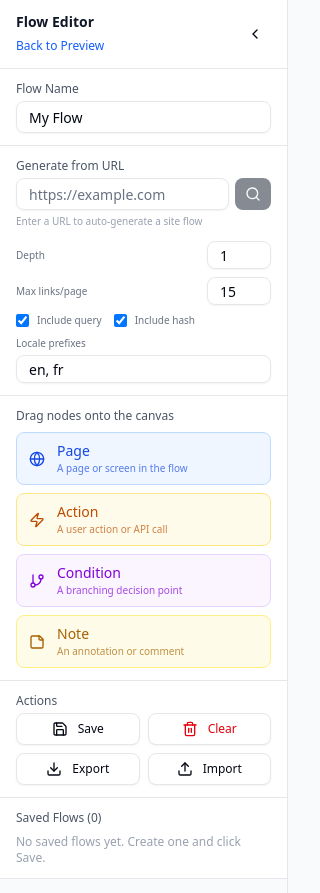
Test: Flow Sidebar › sidebar collapse › should show collapsed state with only icons after collapse
This screenshot has width=320, height=893.
Step 1. Click the button without text next to "Back to Preview" → (255, 34), box x1=239 y1=18 x2=271 y2=50
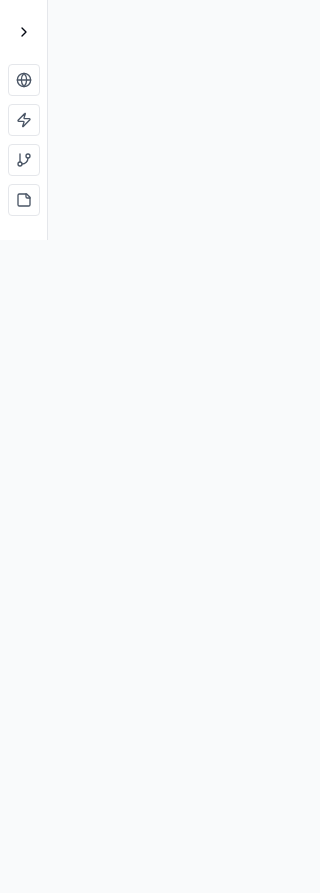
Expected: the heading "Flow Editor" is gone
